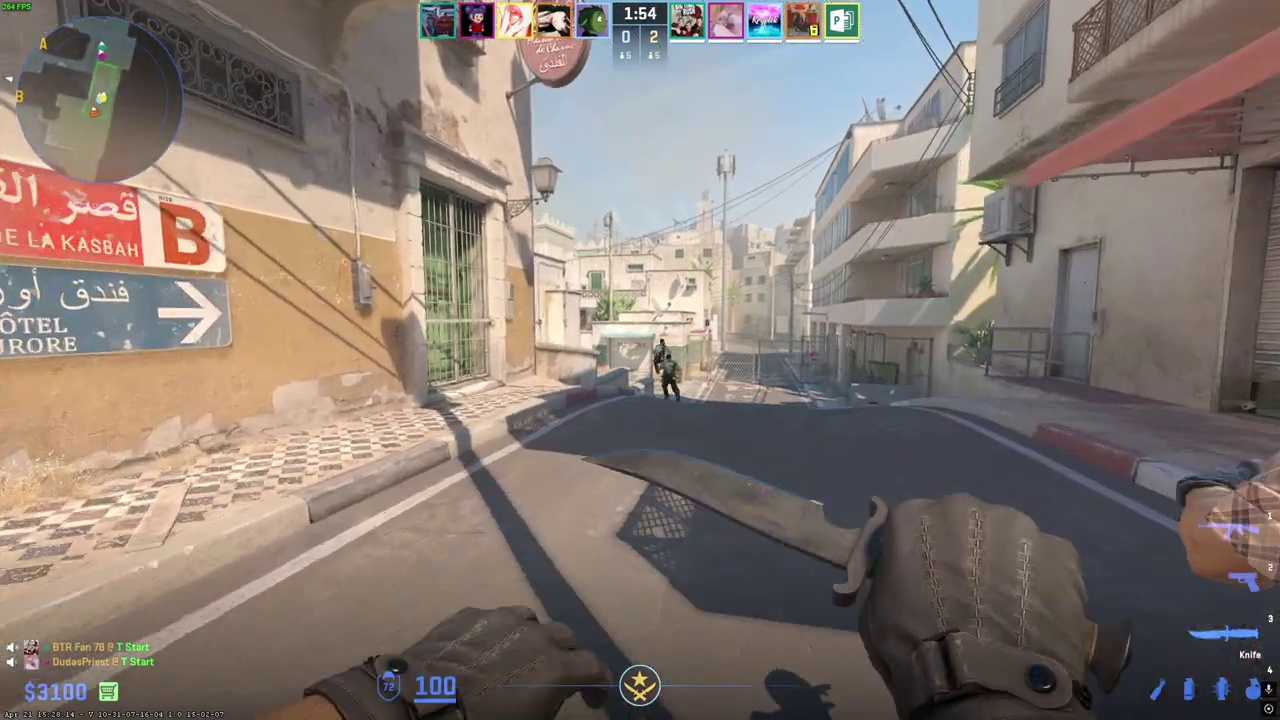Terrorist: (660, 355, 681, 401), (655, 338, 666, 374)
